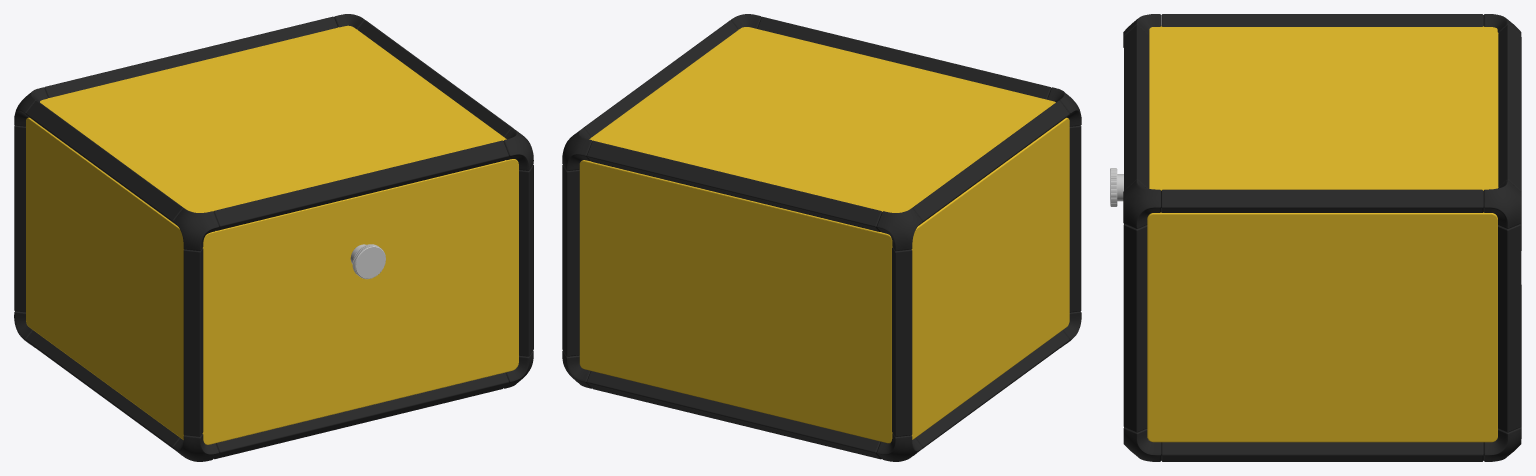
3 renders of one model, left to right at view 1: azimuth 30°, elevation 25°; view 2: azimuth 150°, elevation 25°; view 3: azimuth 270°, elevation 25°, orthographic. The views are drawn at different scales.
Visible parts, largest first — view 1: 374x329x229; view 2: 374x329x229; view 3: 374x329x229.
Boxes of the visible parts, left/top/right/bottom form: 374x329x229: left=14, top=14, right=533, bottom=461; 374x329x229: left=562, top=14, right=1081, bottom=461; 374x329x229: left=1110, top=14, right=1521, bottom=461.
Bounding box in the file's own units: 0.4517 × 0.3067 × 0.4196.
